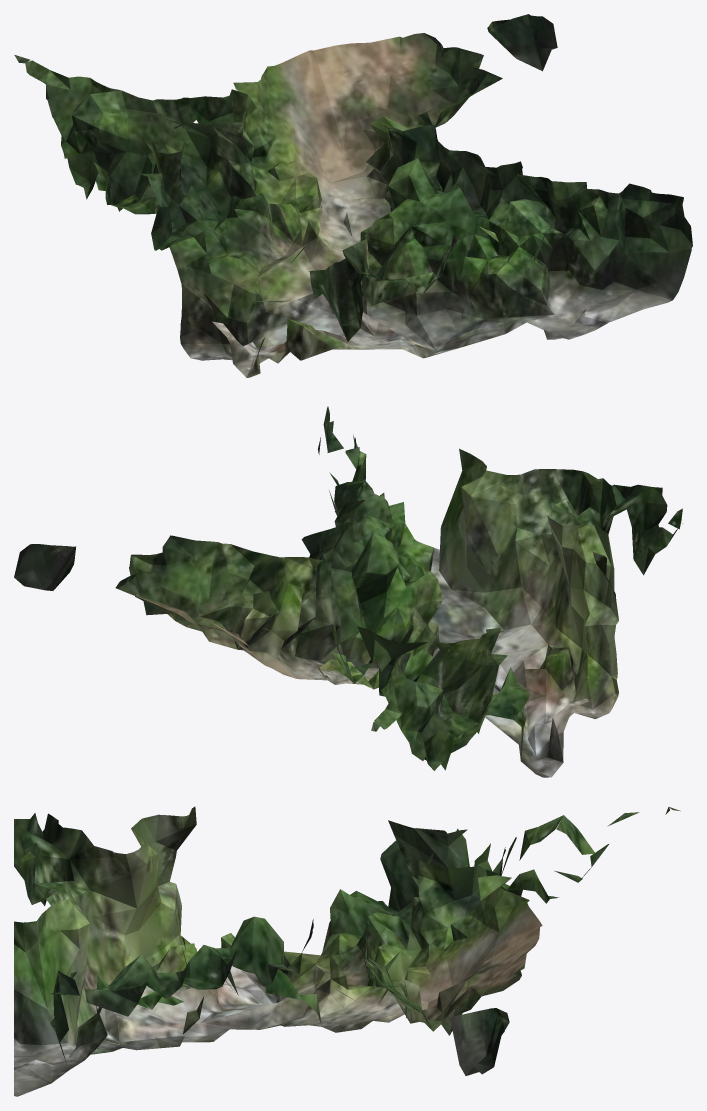
3 views of the same model, one above another, from view 1: azimuth 30°, elevation 25°; view 2: azimuth 150°, elevation 25°; view 3: azimuth 270°, elevation 25° (orthographic). The views are drawn at different scales.
Size of the model in its own units: 42.27 by 15.8 by 51.56.
3 materials, 3 textured.
